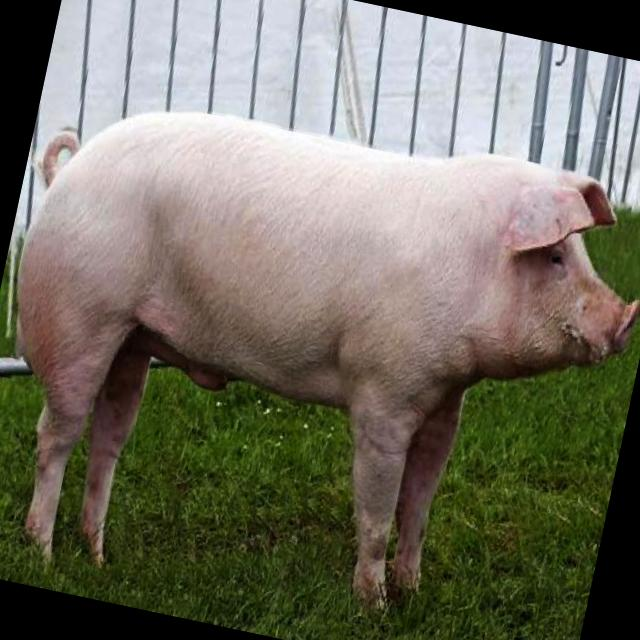pig: (18, 113, 639, 604)
